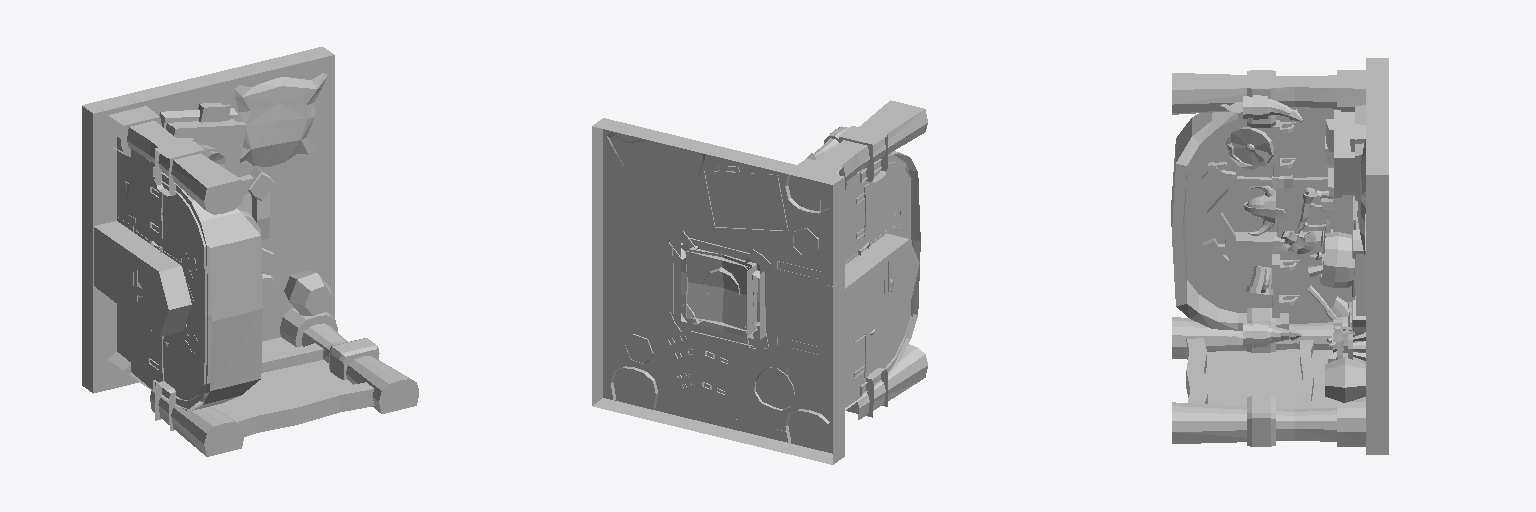
Rendered from viking_room.obj.
3 views of the same model, side by side, from view 1: azimuth 30°, elevation 25°; view 2: azimuth 150°, elevation 25°; view 3: azimuth 270°, elevation 25° (orthographic).
Visible parts, largest first — view 1: mesh_all1_Texture1_0; view 2: mesh_all1_Texture1_0; view 3: mesh_all1_Texture1_0.
Boxes of the visible parts, box(x1,y1,x2,y2) form: mesh_all1_Texture1_0: box(82, 47, 418, 456); mesh_all1_Texture1_0: box(592, 100, 927, 464); mesh_all1_Texture1_0: box(1171, 58, 1388, 454).
Bounding box in the file's own units: 1.33 × 1.46 × 1.03.